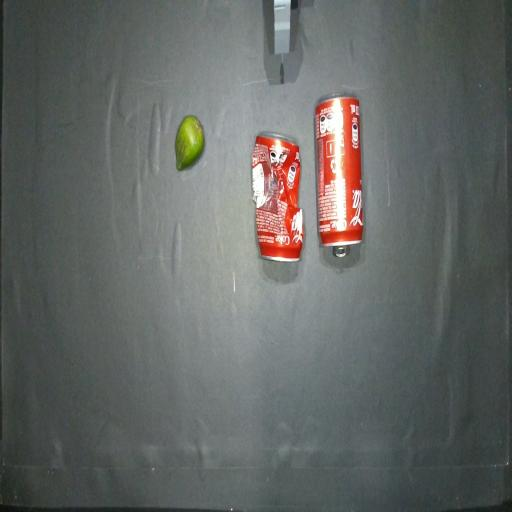higo: (175, 115, 204, 170)
lata: (315, 95, 363, 256)
lata_defectuoso: (252, 132, 303, 261)
